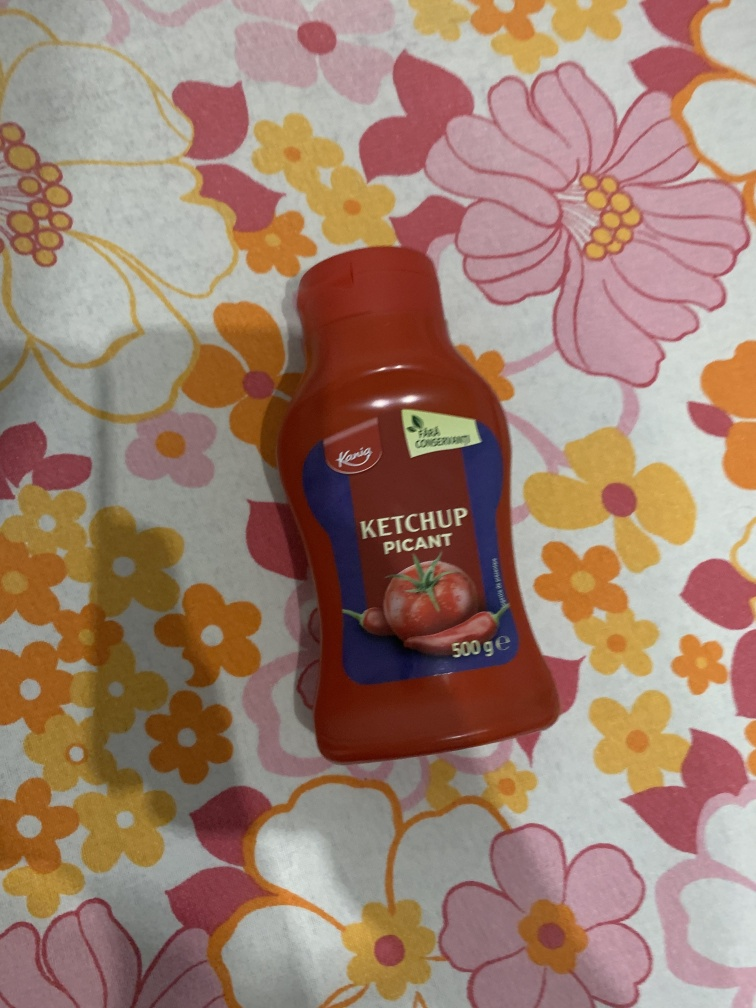ketchup: (274, 244, 570, 759)
